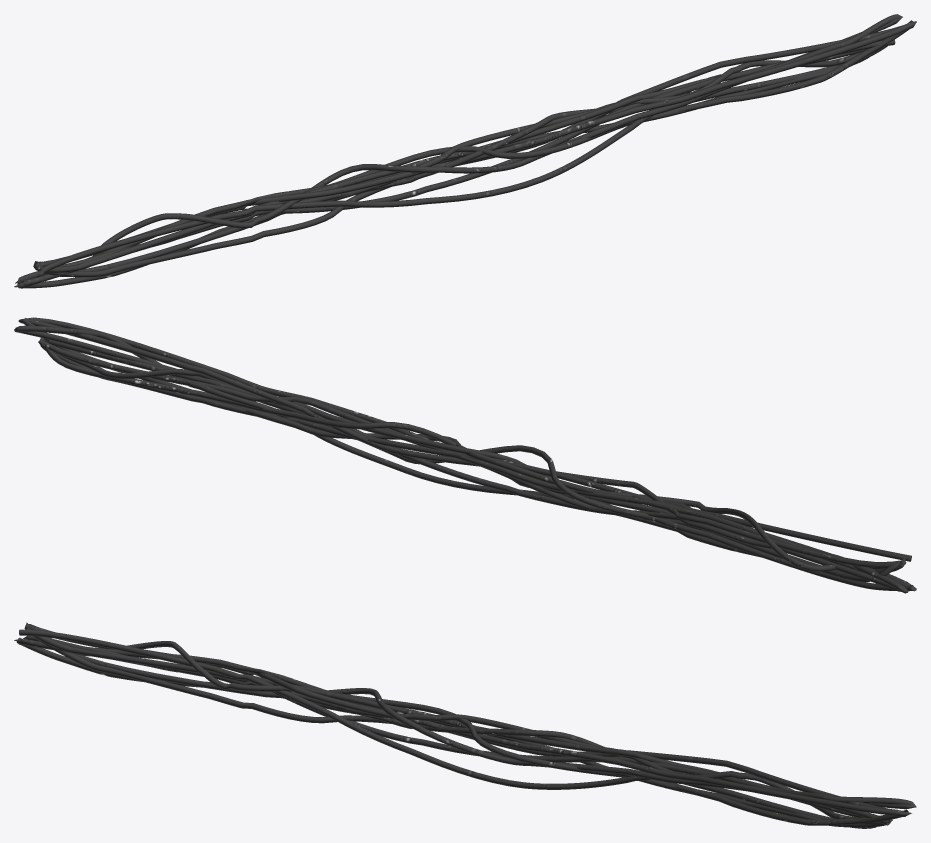
File: WIRE1.fbx
3 renders of one model, top to bottom at view 1: azimuth 30°, elevation 25°; view 2: azimuth 150°, elevation 25°; view 3: azimuth 330°, elevation 25°, orthographic.
Parts seen in each view (by area): view 1: Wire.001; view 2: Wire.001; view 3: Wire.001.
Boxes of the visible parts, x1,y1,x2,y2 form: Wire.001: (14, 14, 916, 288); Wire.001: (14, 317, 916, 593); Wire.001: (14, 622, 916, 828).
Size of the model in its own units: 3367 by 250 by 209.
Materials: 1 (1 with a texture image).
